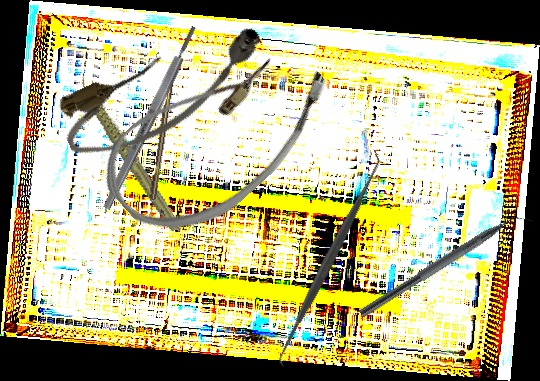Cannula: (87, 8, 348, 263), (50, 13, 280, 171)
Chopper: (358, 203, 535, 330)
Handpiece: (77, 60, 183, 245)
Hook Surgical: (145, 72, 176, 221)
Scalpel Handle: (100, 24, 200, 211)
Spatula Surgical: (264, 147, 395, 370)
